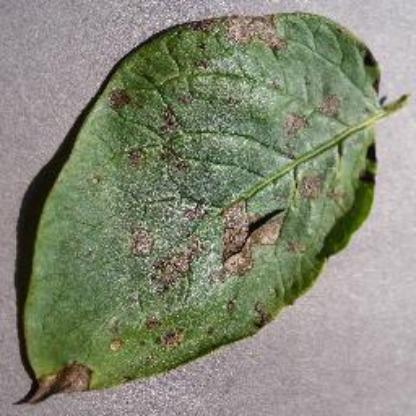Early-Blight: (14, 6, 408, 410)
